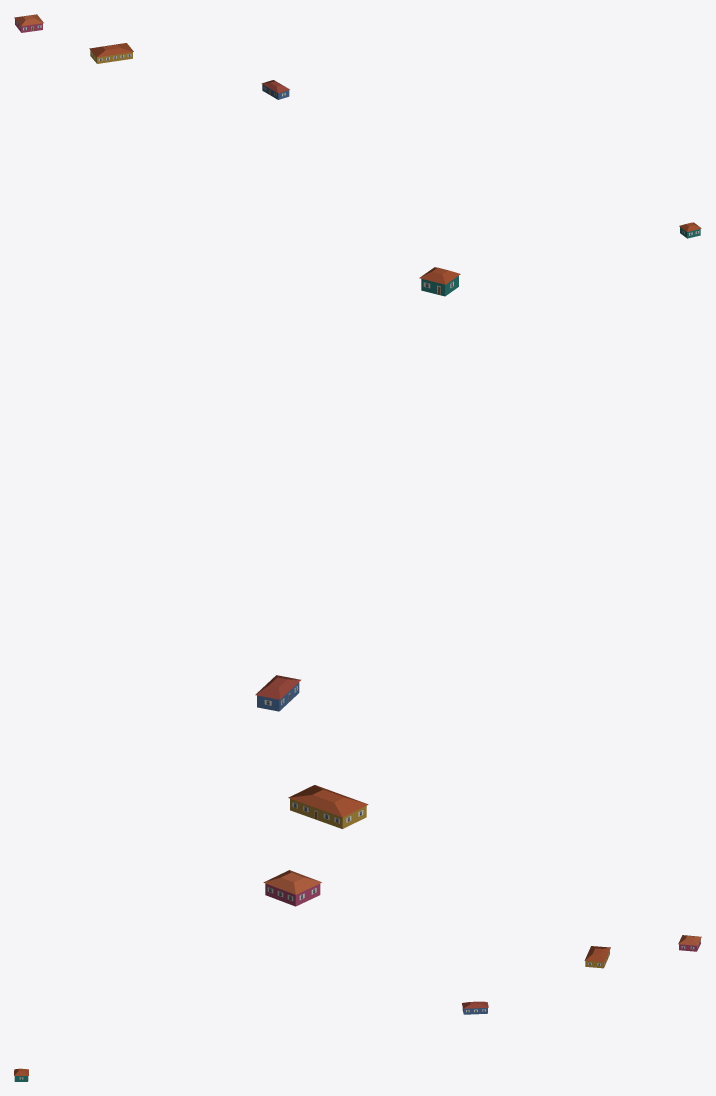
Rendered from msb_sannicolas_17_24.glb.
3 renders of one model, top to bottom at view 1: azimuth 30°, elevation 25°; view 2: azimuth 150°, elevation 25°; view 3: azimuth 270°, elevation 25°, orthographic. The views are drawn at different scales.
Parts seen in each view (by area): view 1: msb_sannicolas_17_24_lod0; view 2: msb_sannicolas_17_24_lod0; view 3: msb_sannicolas_17_24_lod0.
Boxes of the visible parts, x1,y1,x2,y2 form: msb_sannicolas_17_24_lod0: [14, 14, 701, 238]; msb_sannicolas_17_24_lod0: [255, 267, 460, 906]; msb_sannicolas_17_24_lod0: [14, 935, 701, 1081].
Size of what is drawn, in the model's own units: 162 by 9.92 by 346.
2 materials, 1 textured.
